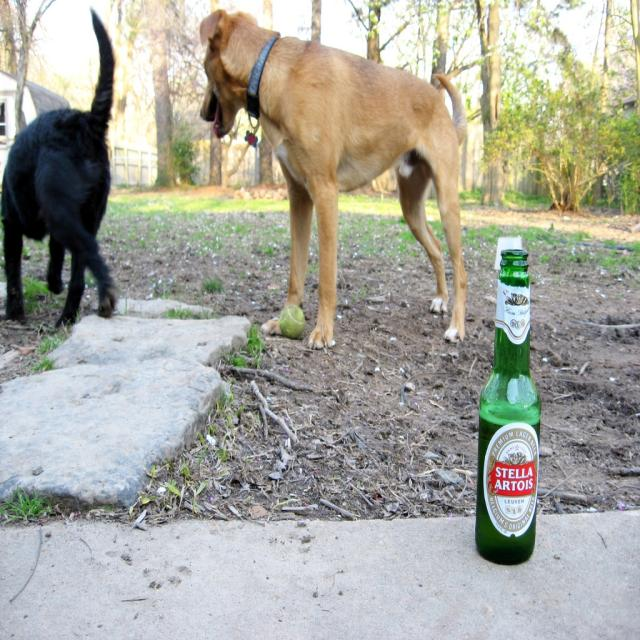stellaartois: (487, 428, 538, 532)
